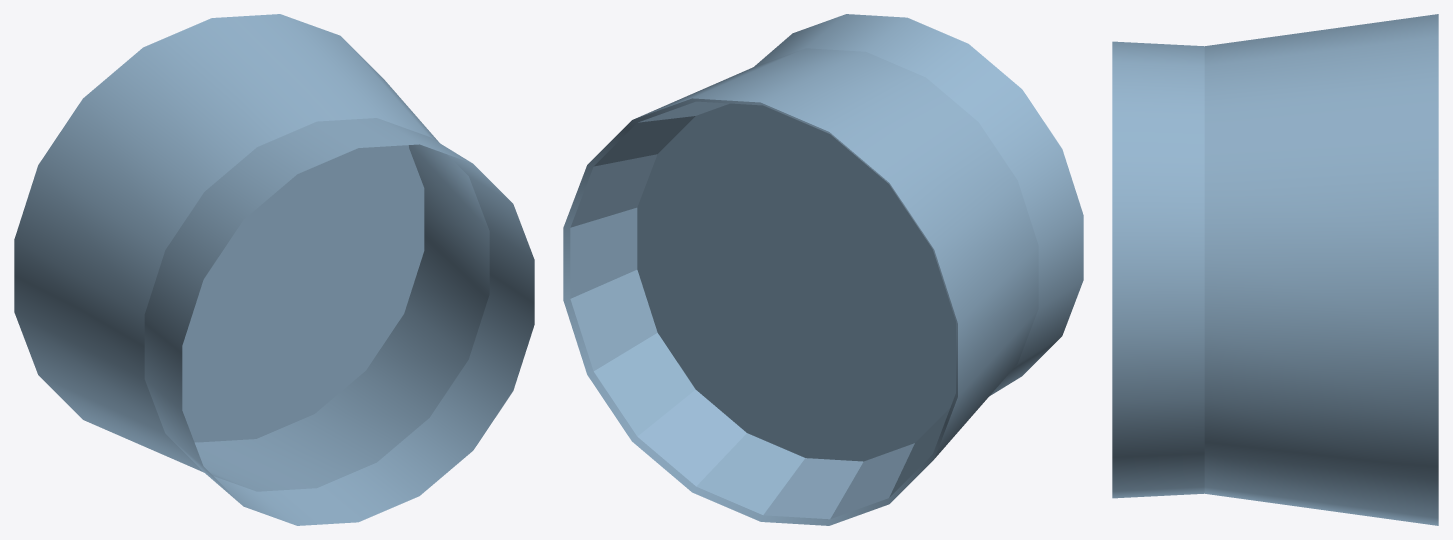
The model's file is engine 2 back part.FBX.
3 views of the same model, side by side, from view 1: azimuth 30°, elevation 25°; view 2: azimuth 150°, elevation 25°; view 3: azimuth 270°, elevation 25° (orthographic). The views are drawn at different scales.
Visible parts, largest first — view 1: body01; view 2: body01; view 3: body01.
Boxes of the visible parts, x1,y1,x2,y2 form: body01: (14, 14, 534, 525); body01: (563, 14, 1083, 525); body01: (1112, 14, 1438, 525).
Bounding box in the file's own units: 0.0291 × 0.0188 × 0.0296.
